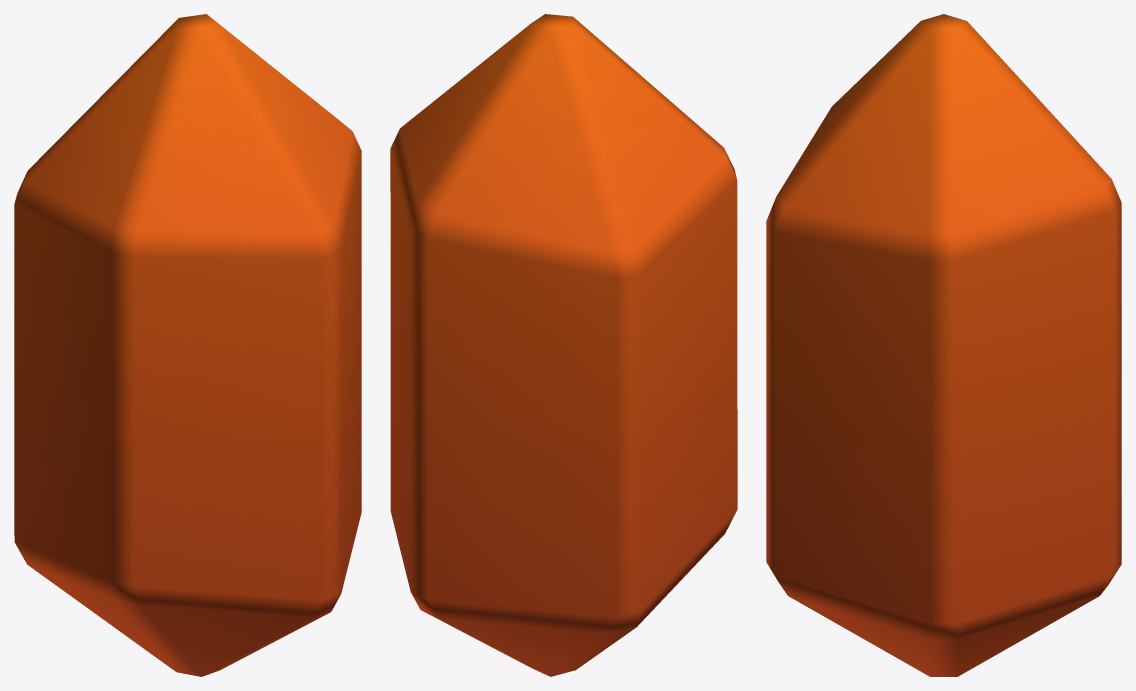
The model's file is inferno-gem-003.glb.
3 views of the same model, side by side, from view 1: azimuth 30°, elevation 25°; view 2: azimuth 150°, elevation 25°; view 3: azimuth 270°, elevation 25° (orthographic).
Visible parts, largest first — view 1: Gem_003; view 2: Gem_003; view 3: Gem_003.
Boxes of the visible parts, bbox=[...] form: Gem_003: bbox=[14, 14, 361, 676]; Gem_003: bbox=[390, 14, 737, 676]; Gem_003: bbox=[766, 14, 1121, 676].
Bounding box in the file's own units: 0.2067 × 0.4362 × 0.2173.
Materials: 1 (1 with a texture image).
